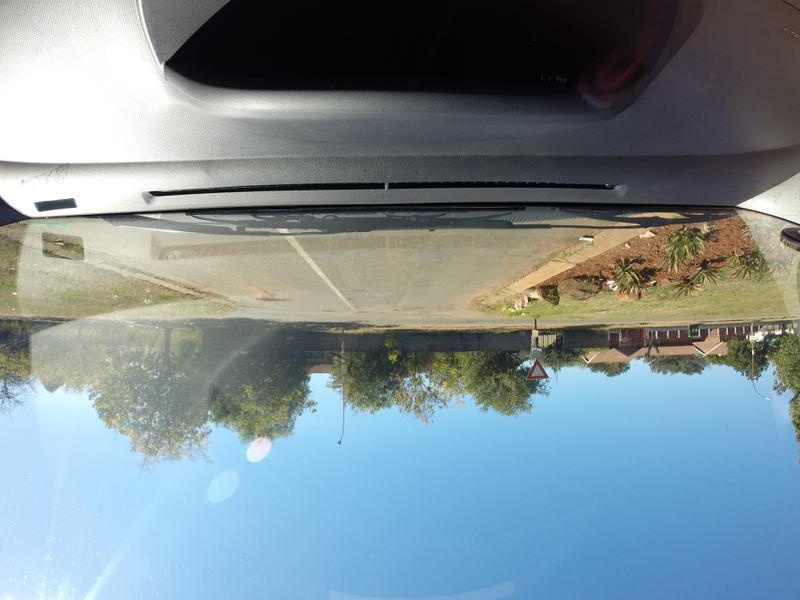pothole: (250, 293, 292, 307)
